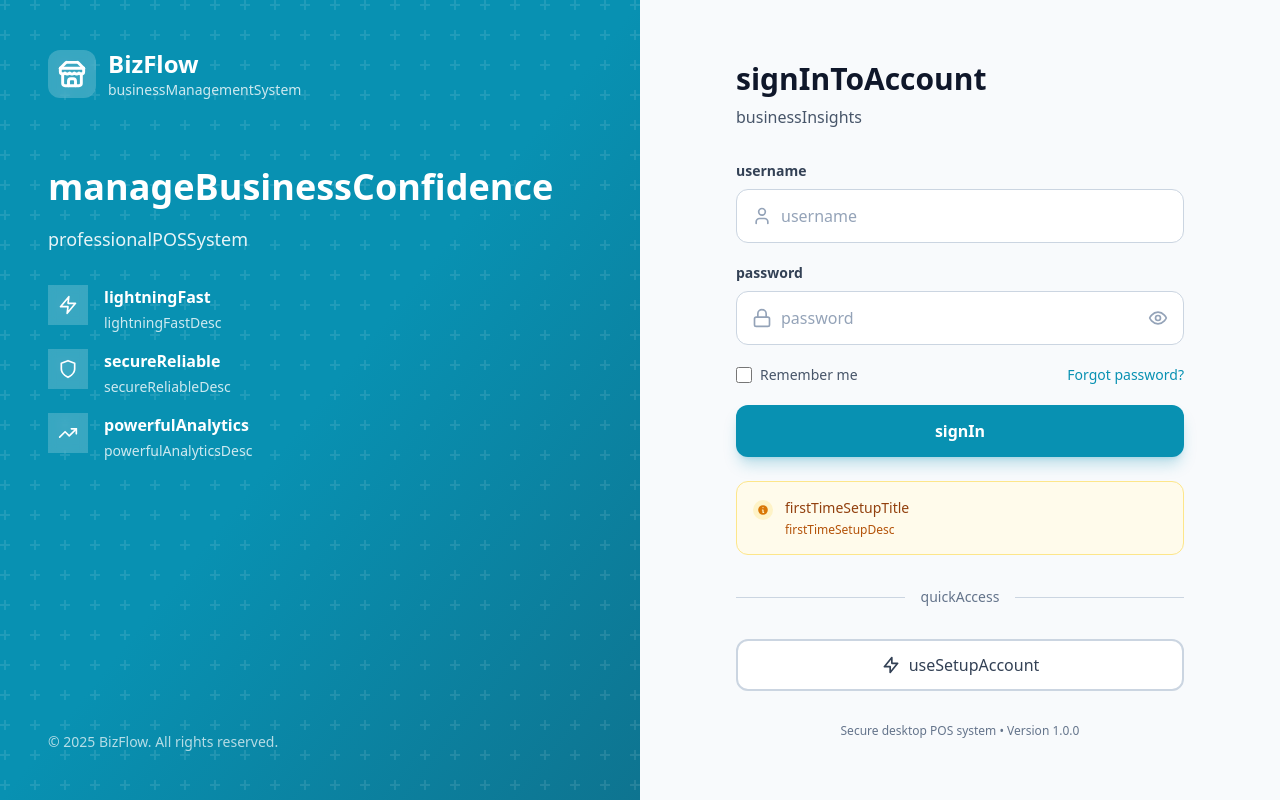
Test case: Login › shows error message on login failure
The width and height of the screenshot is (1280, 800).
Step 1. Type "wronguser" into the field labelled "username" → (960, 216), box [736,189,1184,243]
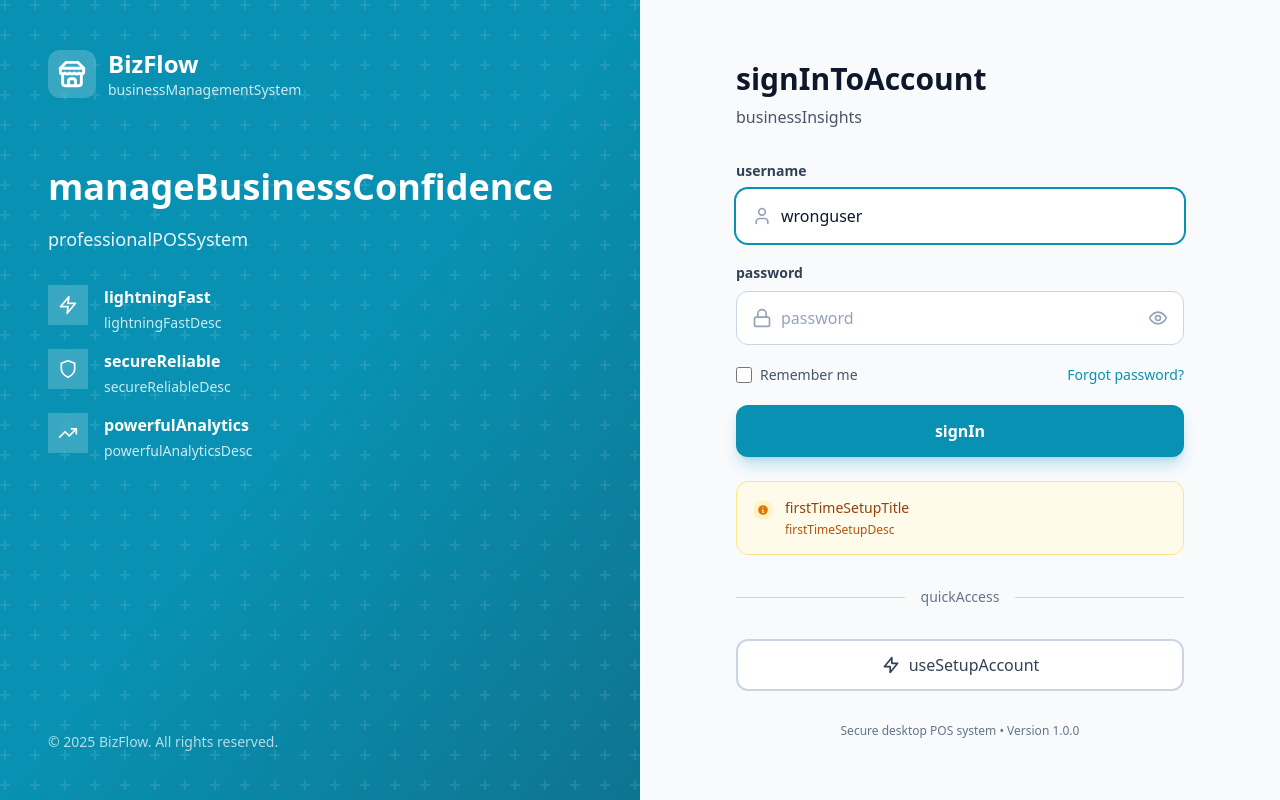
Step 2. Type "wrongpass" into the password field labelled "password" → (960, 318), box [736,291,1184,345]
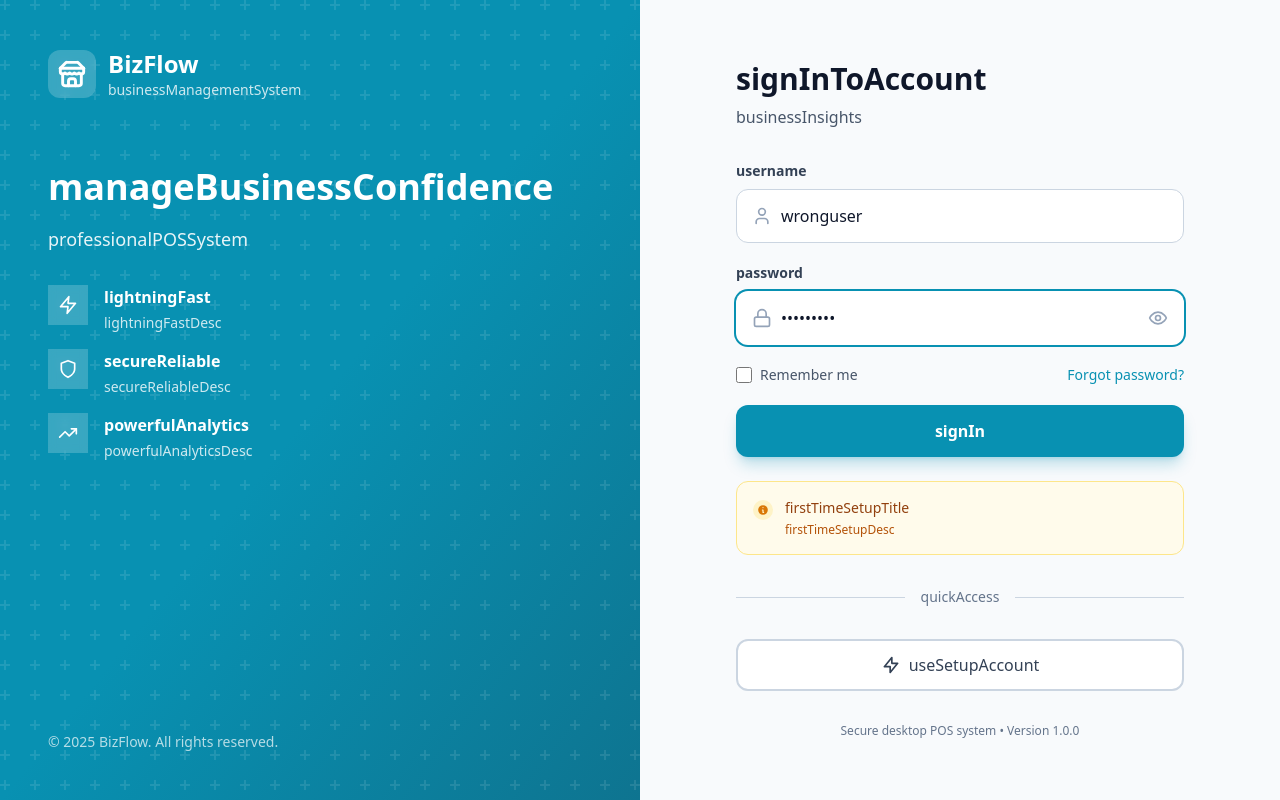
Step 3. Click the button "signIn" → click(960, 431), box [736,405,1184,457]
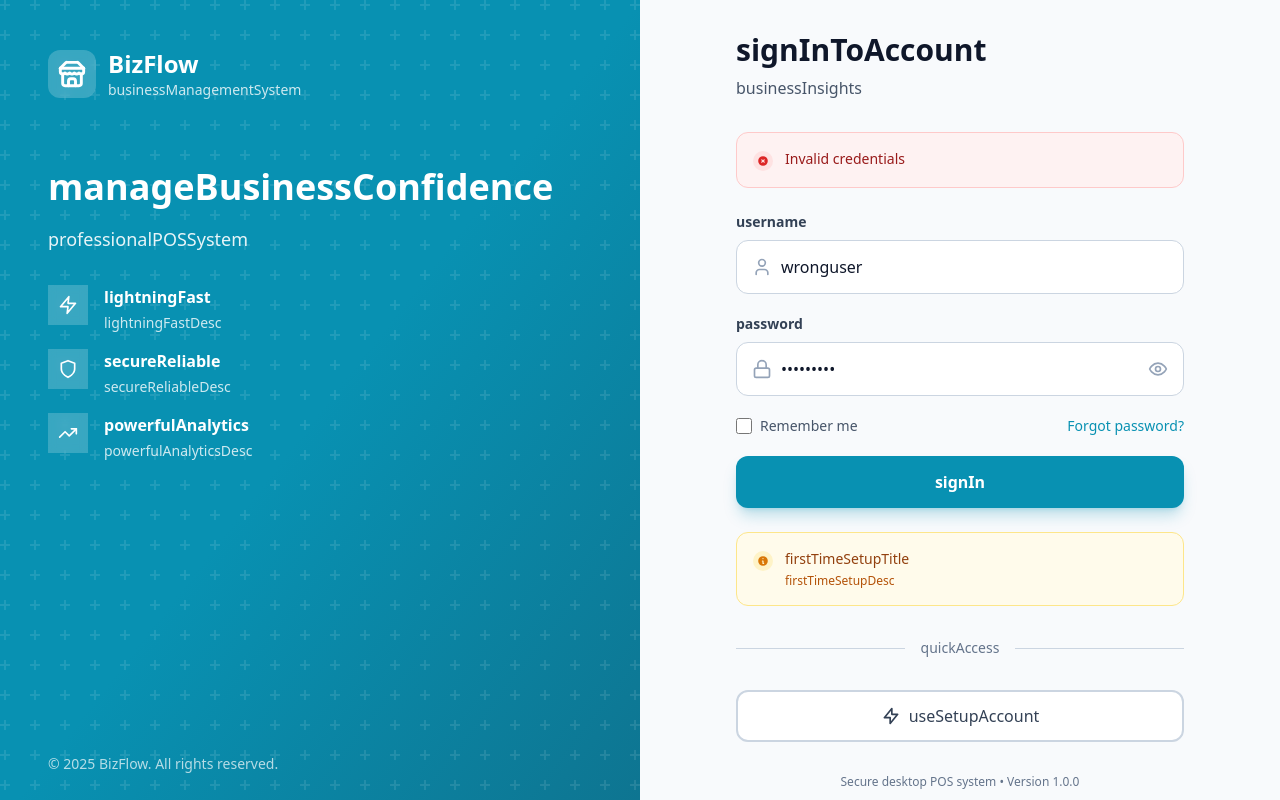
Result: the text "Invalid credentials" is shown at [785,149,905,168]
